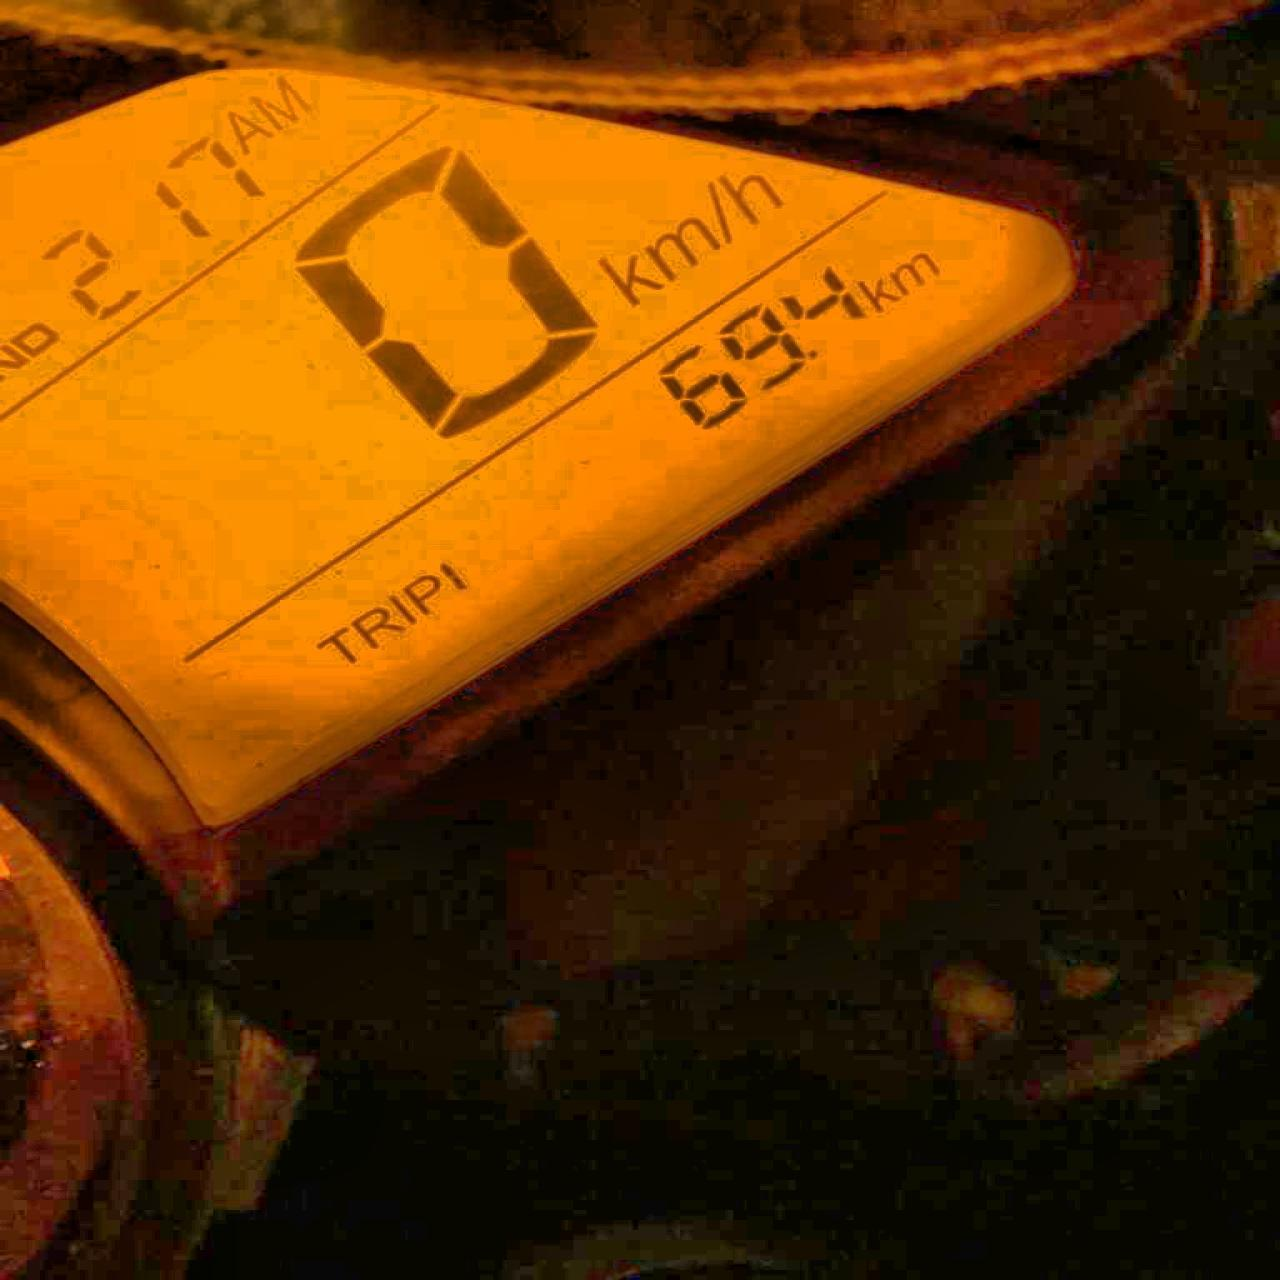-: (802, 347, 818, 365)
0: (293, 144, 597, 437)
1: (148, 181, 206, 241), (437, 563, 463, 588)
2: (39, 227, 137, 319)
4: (781, 265, 862, 327)
6: (656, 343, 743, 430)
7: (165, 135, 261, 197)
9: (716, 304, 802, 388)
X: (644, 216, 716, 280), (719, 170, 778, 225), (598, 254, 662, 304), (252, 76, 306, 128), (890, 252, 938, 297), (352, 607, 402, 648), (223, 110, 267, 151), (706, 178, 731, 244), (11, 322, 56, 355), (403, 574, 438, 614), (316, 627, 353, 665), (860, 278, 897, 313), (0, 346, 25, 379), (388, 595, 414, 624)
odometer: (0, 40, 1102, 855)
